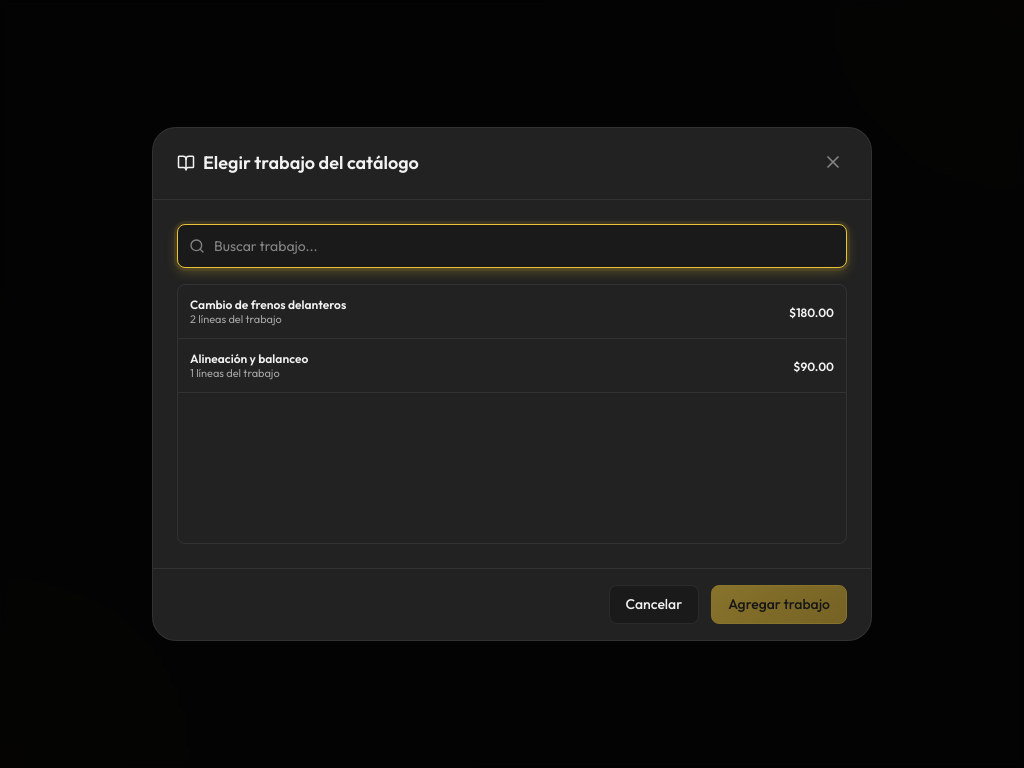
Test: CatalogPickerModal › filtra los trabajos por texto de búsqueda
Check: the text "Cambio de frenos delanteros" is shown, box [190, 297, 346, 312]
Check: the text "Alineación y balanceo" is shown, box [190, 351, 308, 366]
In the field with placeholder "Buscar trabajo...": (512, 246) [177, 224, 847, 268], type "frenos"
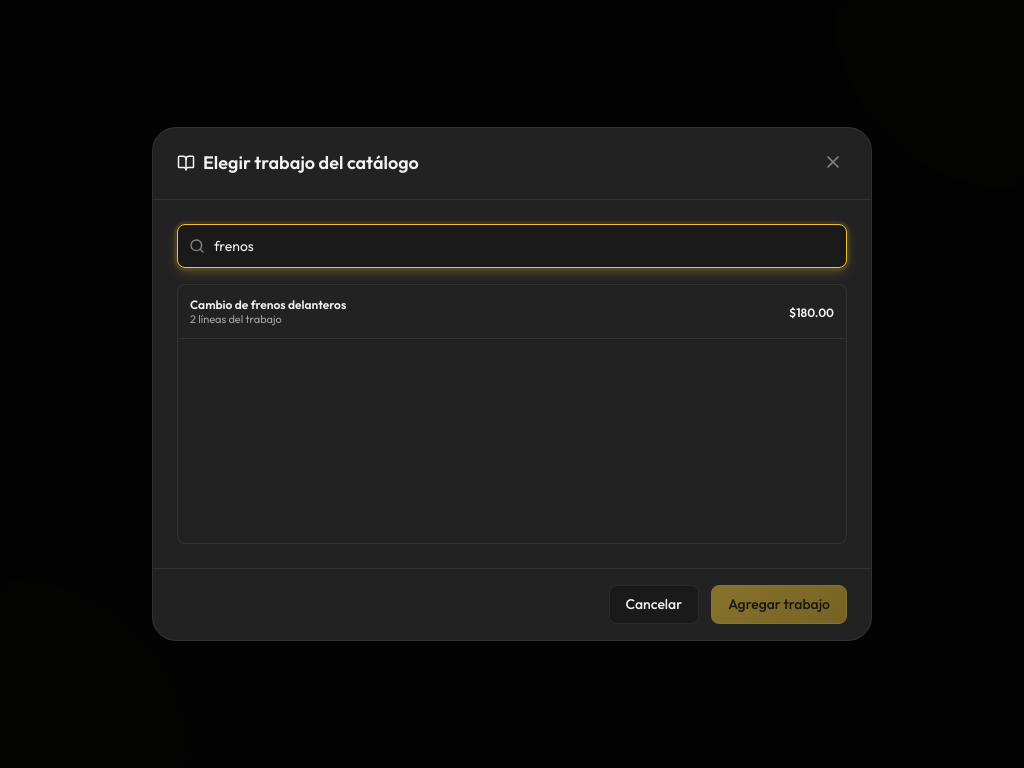
Check: the text "Cambio de frenos delanteros" is shown, box [190, 297, 346, 312]
Check: the button "Alineación y balanceo" is gone
